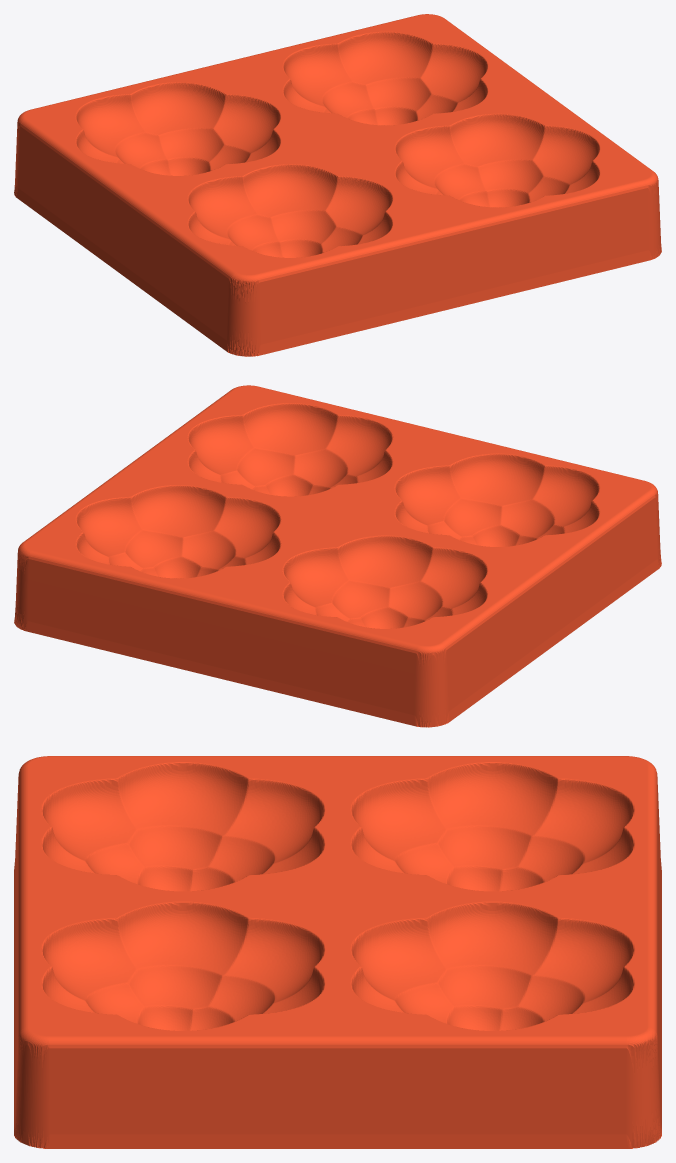
File: mold.glb
3 renders of one model, top to bottom at view 1: azimuth 30°, elevation 25°; view 2: azimuth 150°, elevation 25°; view 3: azimuth 270°, elevation 25°, orthographic. The views are drawn at different scales.
Visible parts, largest first — view 1: geometry_0; view 2: geometry_0; view 3: geometry_0.
Boxes of the visible parts, x1=… form: geometry_0: x1=14, y1=14, x2=661, y2=356; geometry_0: x1=14, y1=385, x2=661, y2=727; geometry_0: x1=14, y1=756, x2=661, y2=1148.
Bounding box in the file's own units: 0.1737 × 0.0296 × 0.1632.
